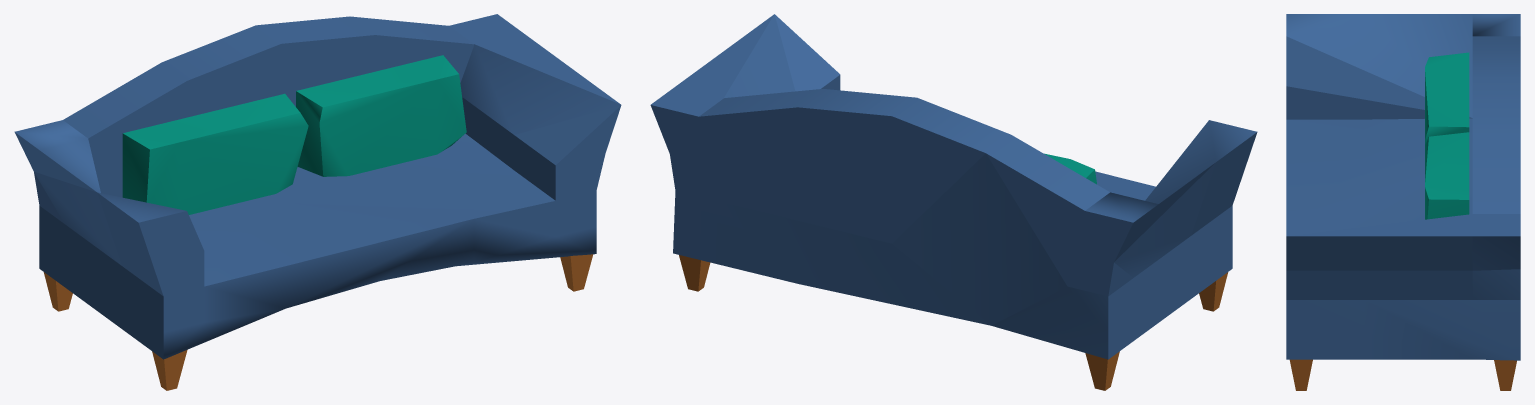
File: Couch.obj
3 renders of one model, left to right at view 1: azimuth 30°, elevation 25°; view 2: azimuth 150°, elevation 25°; view 3: azimuth 270°, elevation 25°, orthographic. The views are drawn at different scales.
Visible parts, largest first — view 1: Couch; view 2: Couch; view 3: Couch.
Part boxes in pixels (box(x1,y1,x2,y2)): Couch: box(14, 14, 621, 390); Couch: box(650, 14, 1257, 390); Couch: box(1286, 14, 1520, 390).
Bounding box in the file's own units: 17.74 × 7.99 × 7.9.
